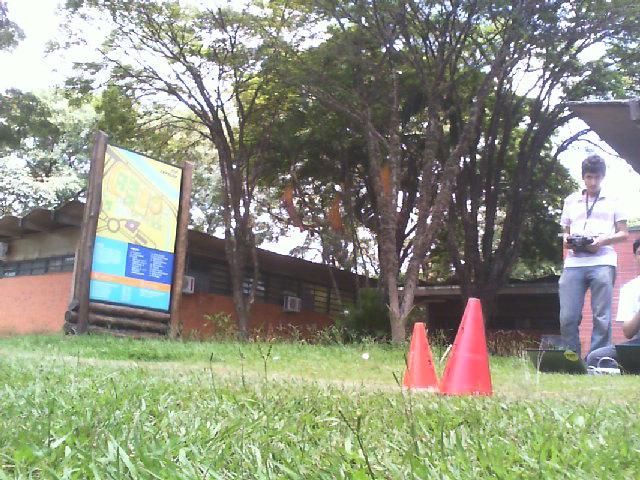0 cone: (432, 298, 502, 399), (400, 322, 440, 390)
